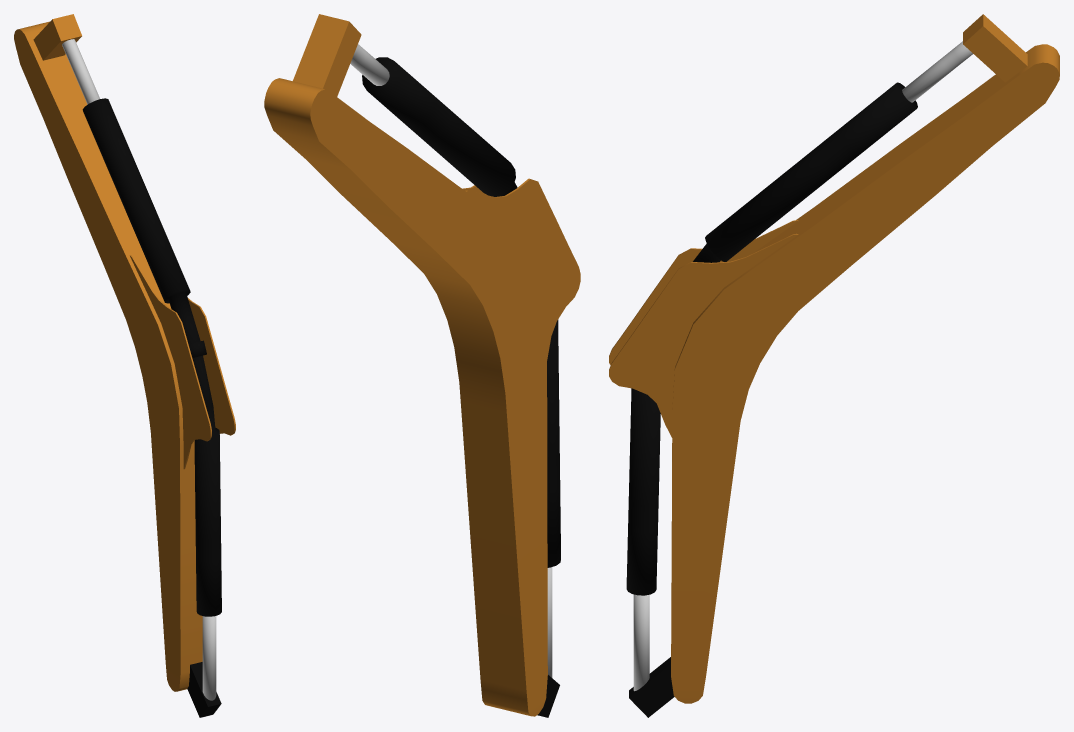
Rendered from CAT302_Boom.obj.
3 renders of one model, left to right at view 1: azimuth 30°, elevation 25°; view 2: azimuth 150°, elevation 25°; view 3: azimuth 270°, elevation 25°, orthographic. The views are drawn at different scales.
Parts seen in each view (by area): view 1: Boom; view 2: Boom; view 3: Boom.
Part boxes in pixels (box(x1,y1,x2,y2)): Boom: box(14, 14, 235, 717); Boom: box(264, 14, 580, 717); Boom: box(609, 14, 1059, 717).
Bounding box in the file's own units: 0.2842 × 5 × 2.94.
